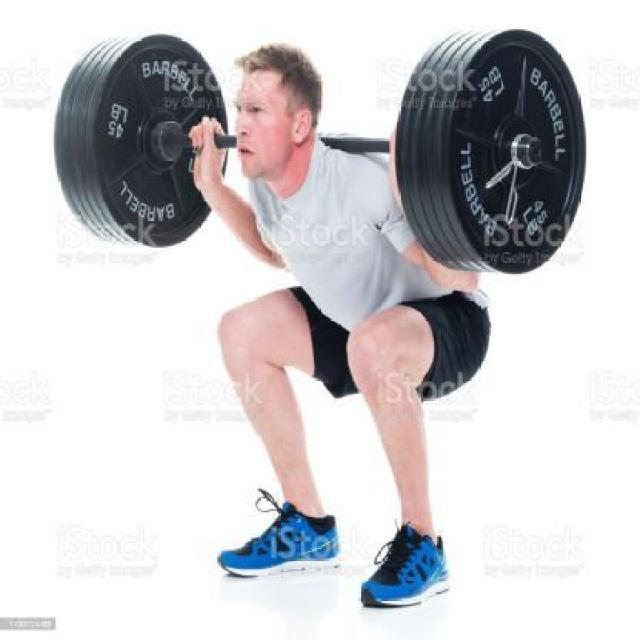barbell: (453, 28, 588, 277)
